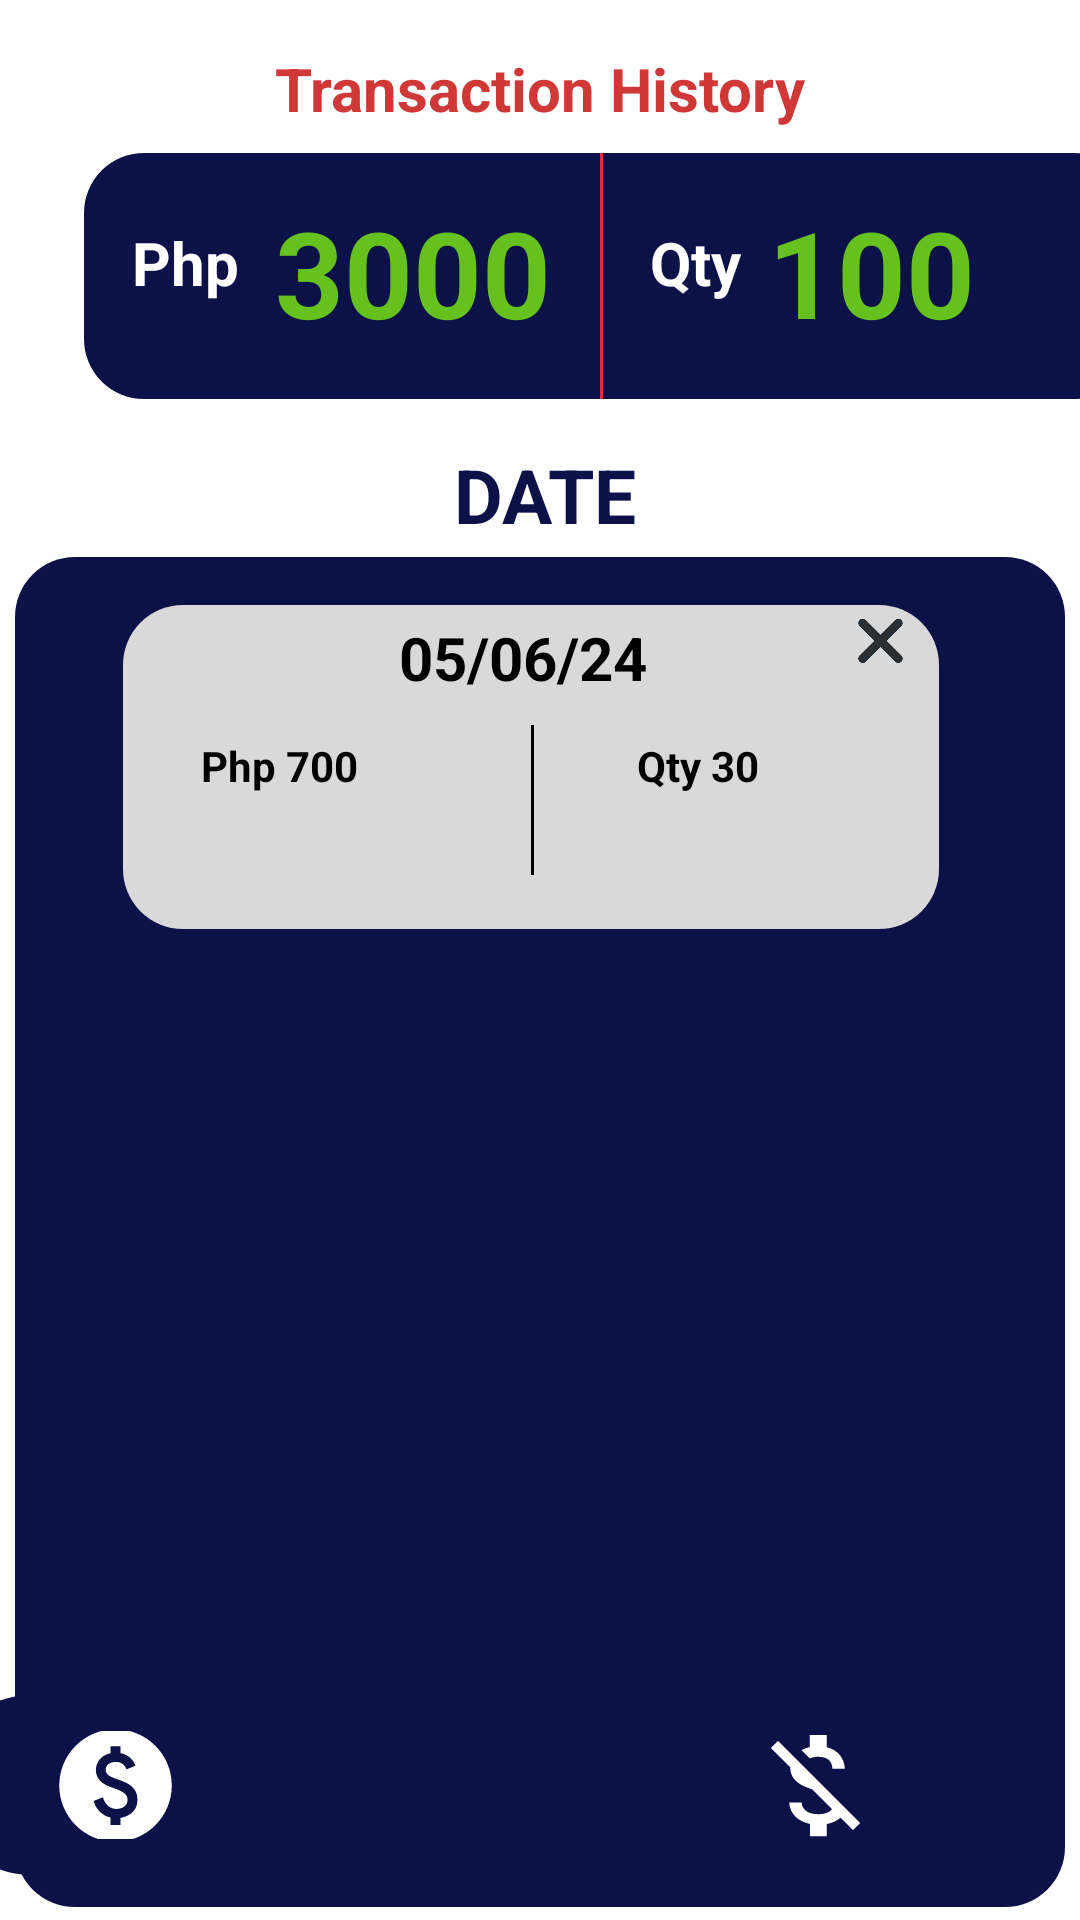

Screen size 1080×1920. Icon name, then its center in pixels as [x,y]:
delete: [880,641]
